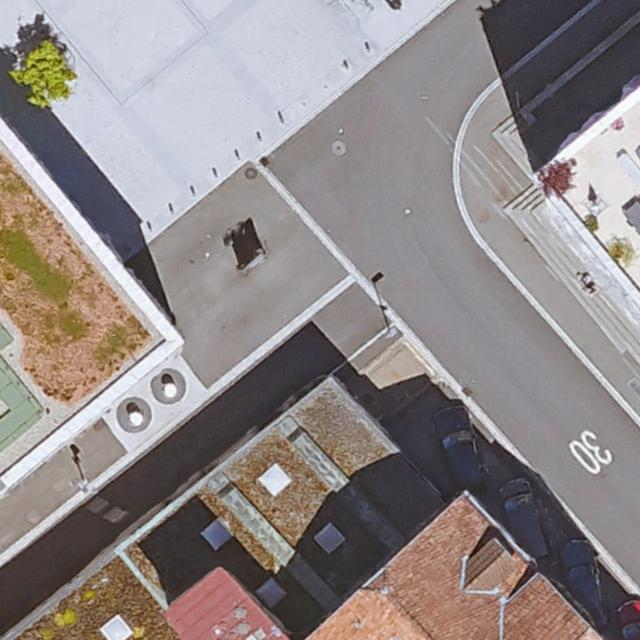tree: (10, 41, 74, 108)
